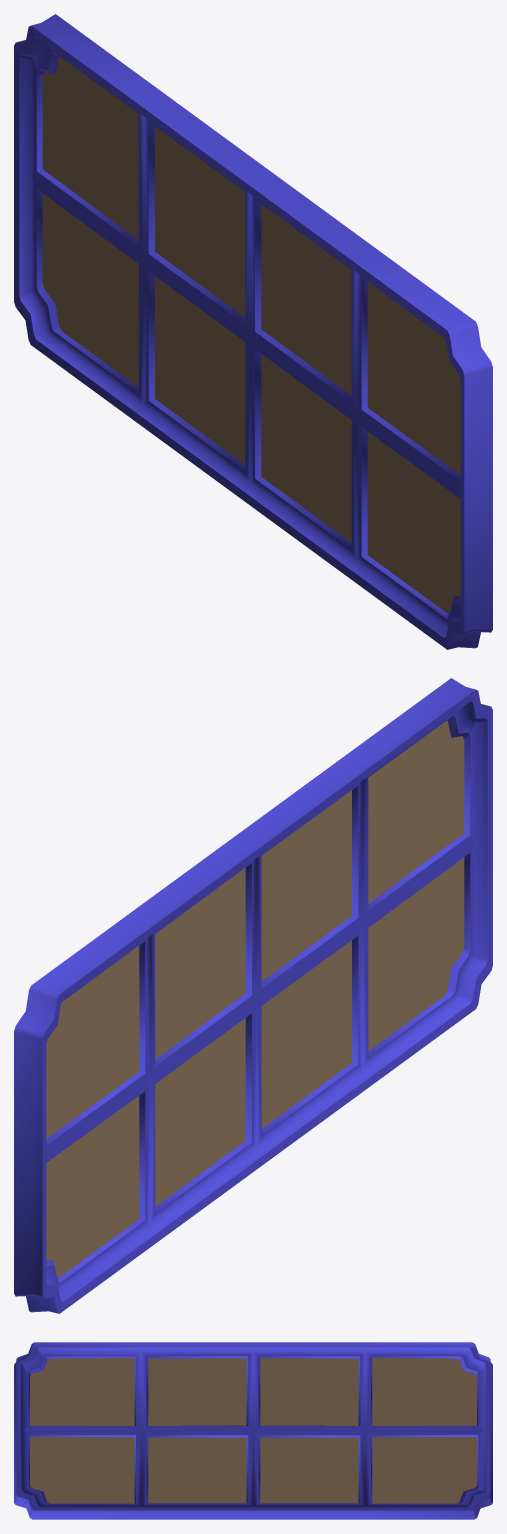
File: SM_FenetreLongue_low.fbx
The picture shows the model from 3 angles, top to bottom: view 1: azimuth 30°, elevation 25°; view 2: azimuth 150°, elevation 25°; view 3: azimuth 270°, elevation 25°; orthographic projection. The views are drawn at different scales.
Parts seen in each view (by area): view 1: SM_FenetreLongue_low; view 2: SM_FenetreLongue_low; view 3: SM_FenetreLongue_low.
Boxes of the visible parts, x1=… form: SM_FenetreLongue_low: x1=14, y1=14, x2=492, y2=649; SM_FenetreLongue_low: x1=14, y1=678, x2=492, y2=1313; SM_FenetreLongue_low: x1=14, y1=1342, x2=492, y2=1519.
Size of the model in its own units: 21.35 by 252 by 635.
